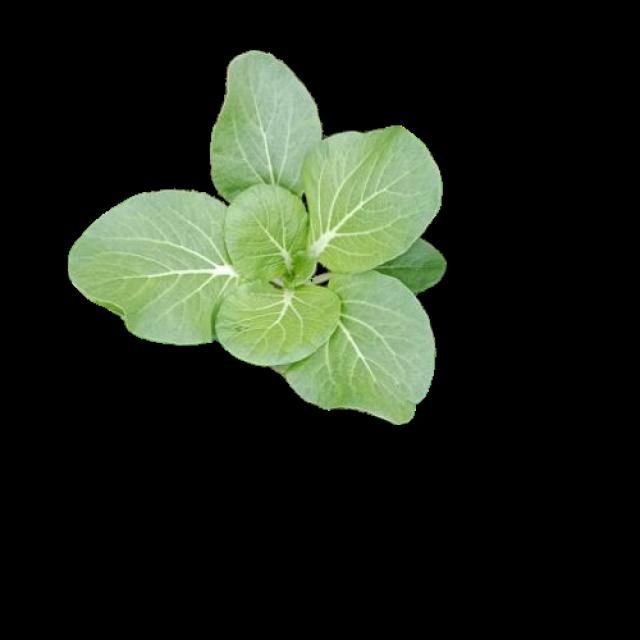healthy: (68, 54, 445, 418)
not-mature: (70, 56, 448, 421)
